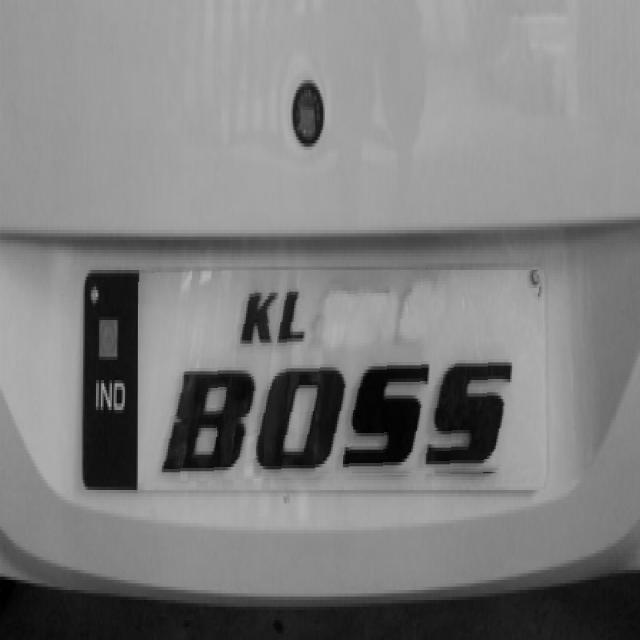licence: (138, 270, 540, 483)
